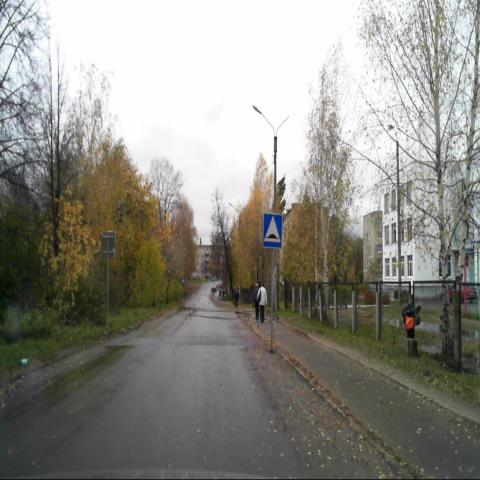5_20: (262, 213, 283, 247)
